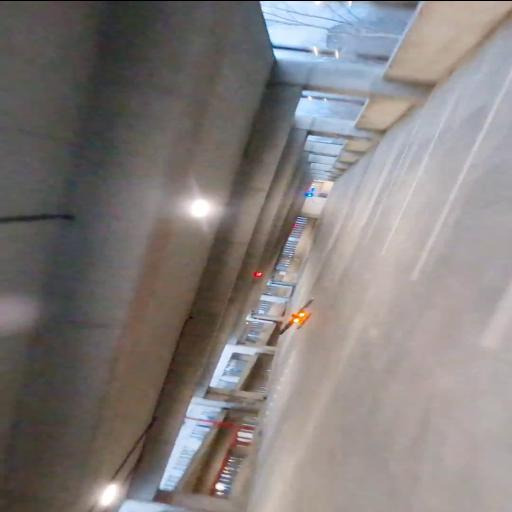uav: (272, 296, 318, 336)
